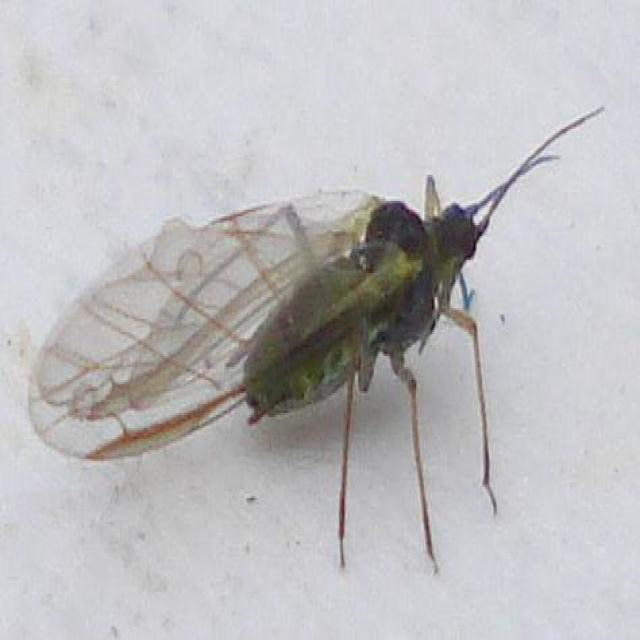Aphids: (32, 84, 609, 578)
